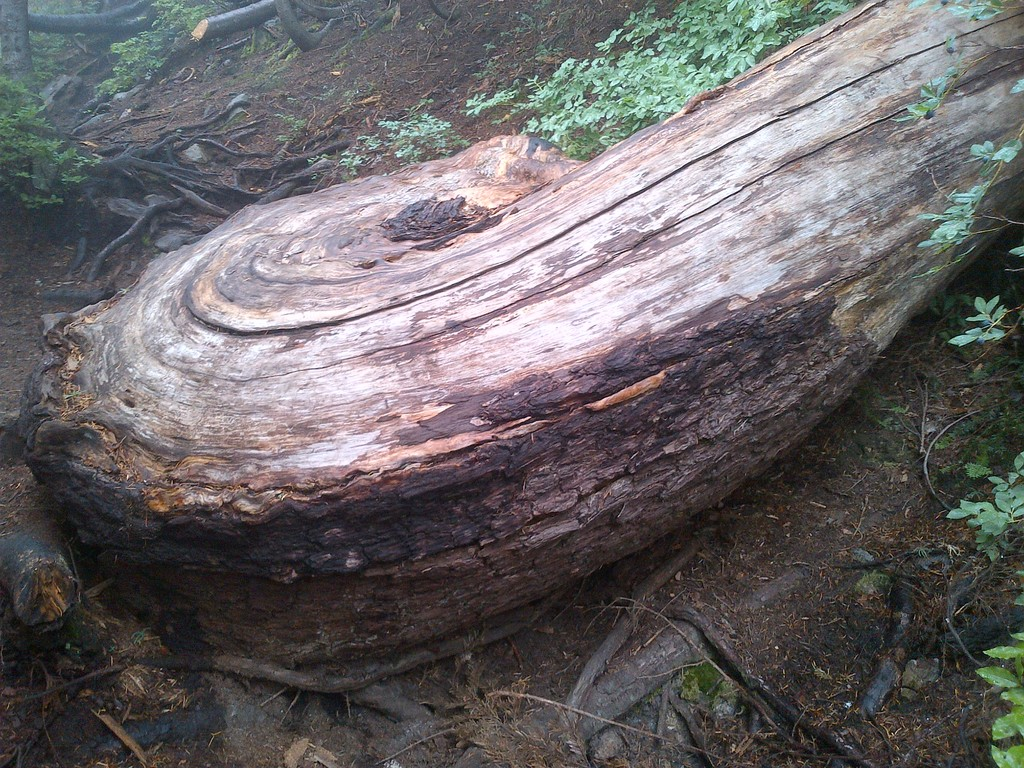Tree: (0, 0, 1024, 691)
